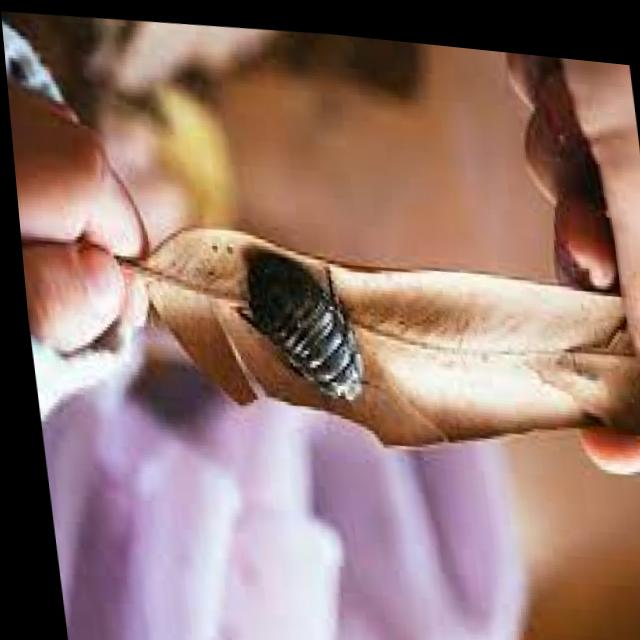Cockroach: (210, 203, 386, 420)
